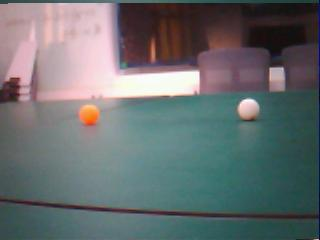oball: (79, 105, 99, 124)
